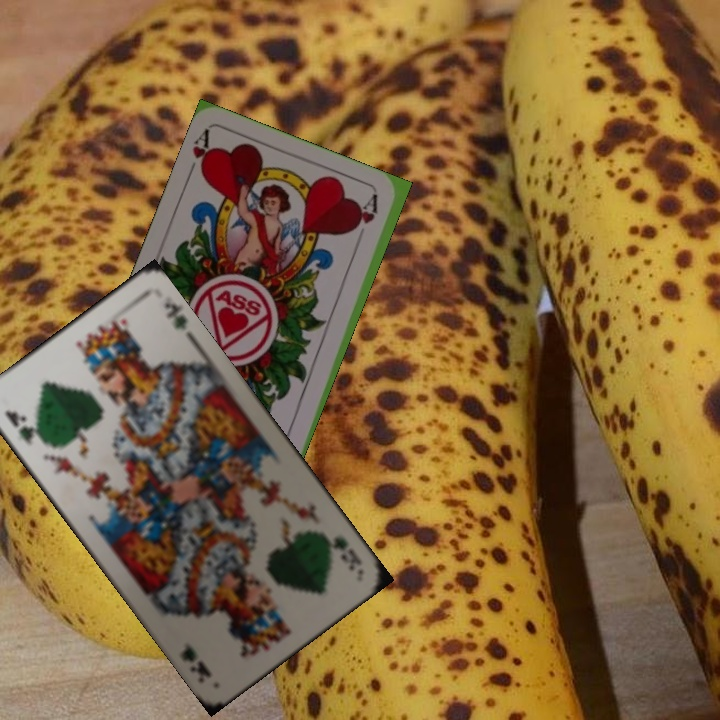GK: (1, 406, 48, 448), (327, 532, 365, 574)
HA: (182, 127, 217, 184)
